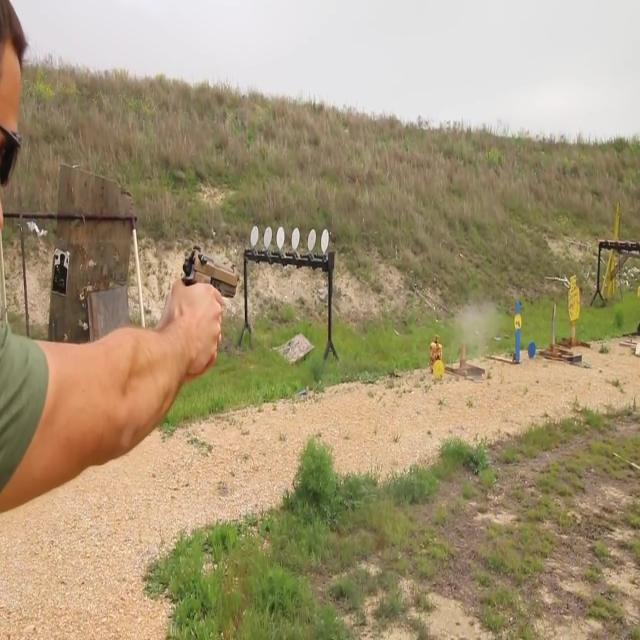Weapon: (165, 225, 250, 339)
